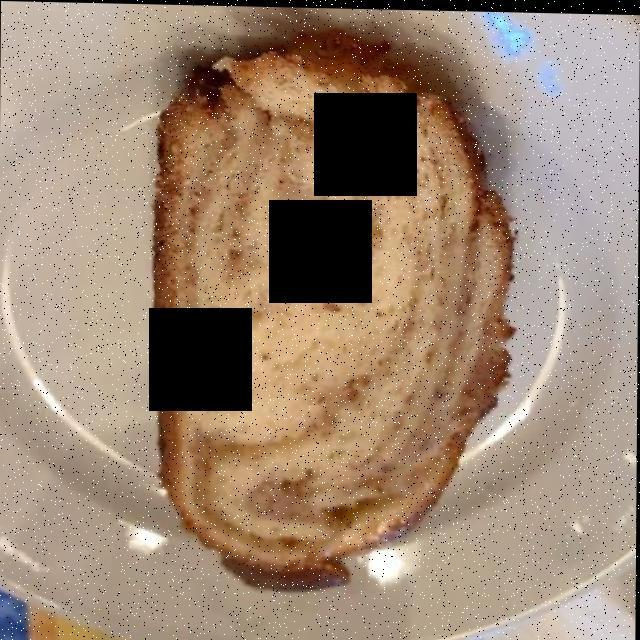cake: (155, 42, 510, 576)
